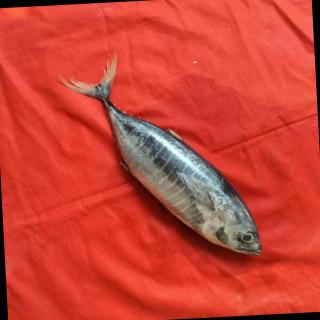Ikan: (53, 41, 279, 277)
